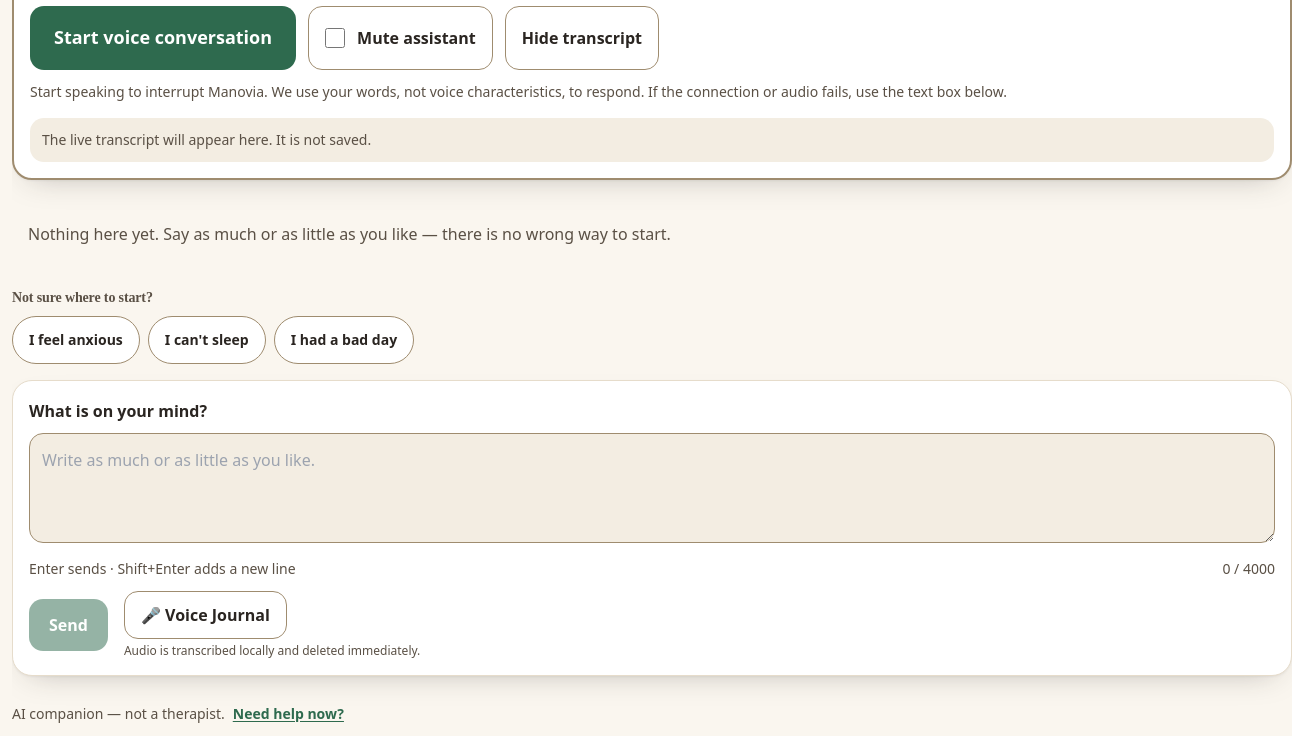
Scenario: ChatView — crisis › softens the page: no starter chips, and the softened flag is set
(page scrolled)
Expected: the element with test id "starter-chips" is shown, [12,290,414,364]
Type "I want to kill myself" into the text box labelled "What is on your mind?" at (652, 488), box [29,432,1275,542]
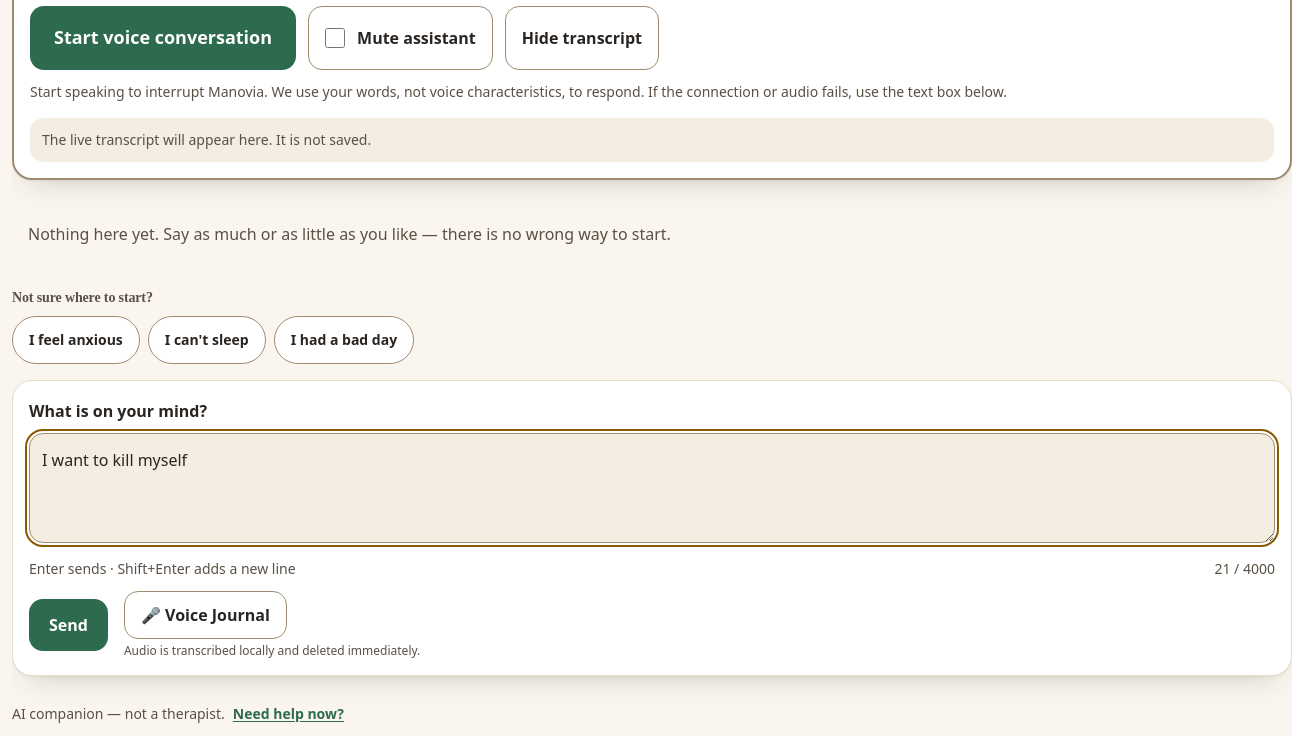
Click the button with test id "send-button" at (68, 624), box [29,598,108,650]
(page scrolled)
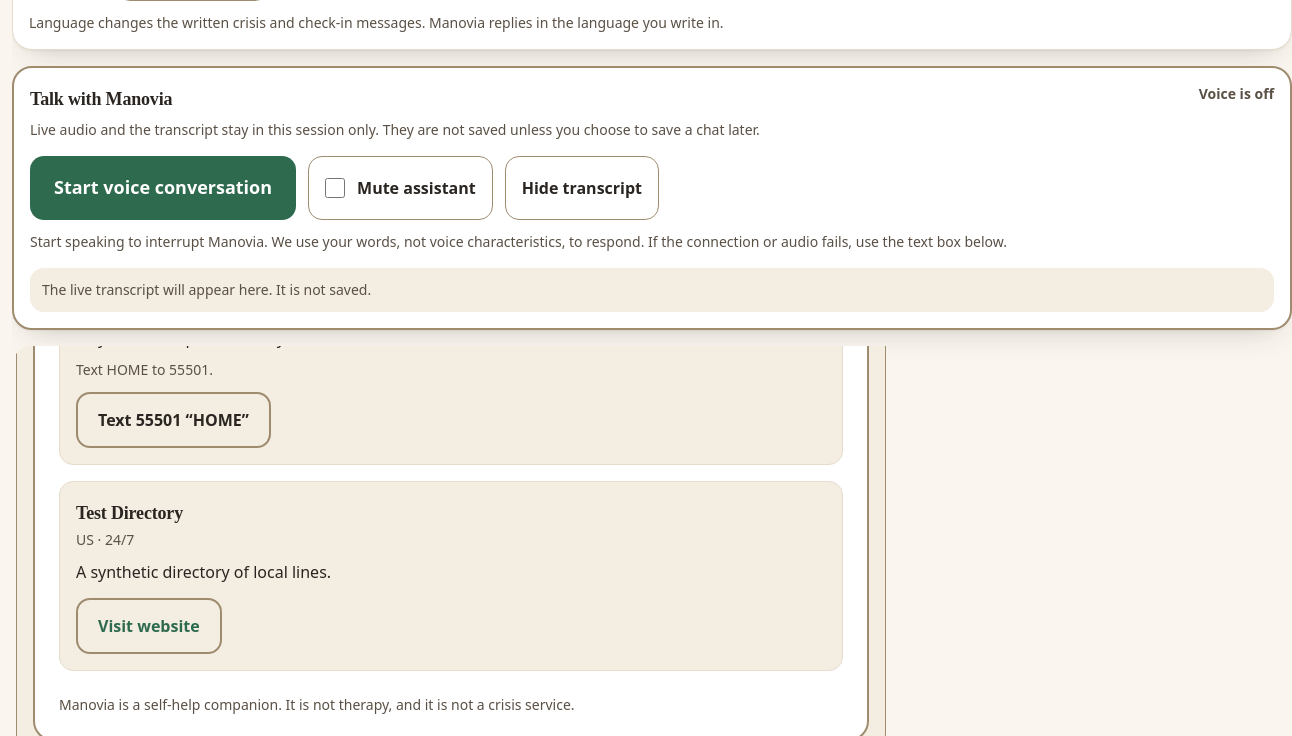
Expected: the element with test id "starter-chips" is gone
